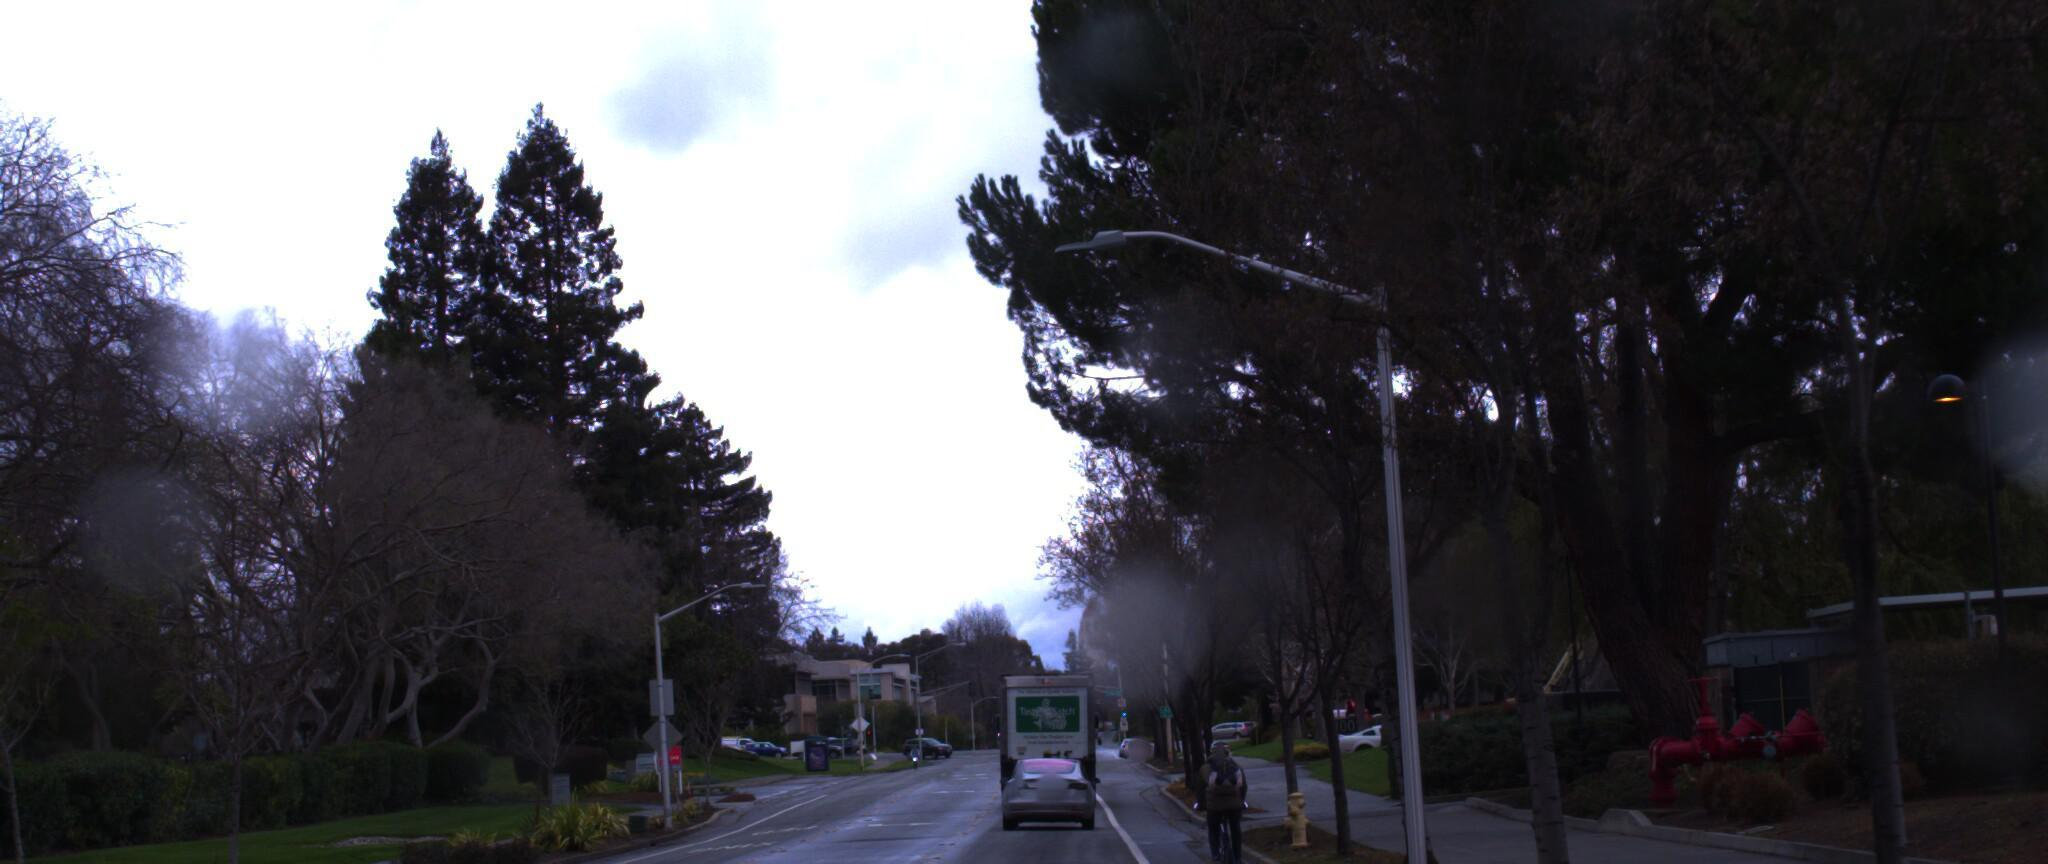bicycle: (1186, 737, 1270, 864)
car: (1006, 753, 1098, 838)
truck: (993, 670, 1125, 818)
